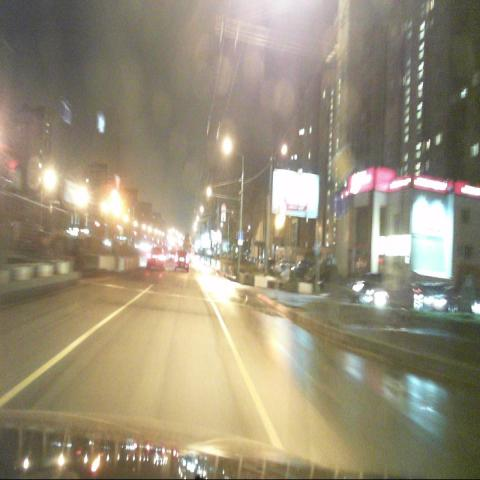4_1_1: (328, 191, 342, 217)
